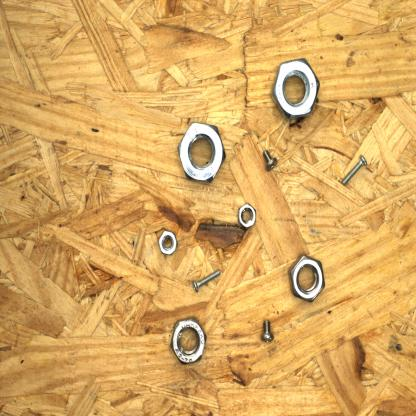screw: (190, 266, 226, 297), (340, 152, 370, 188), (257, 318, 279, 345), (262, 146, 279, 173)
